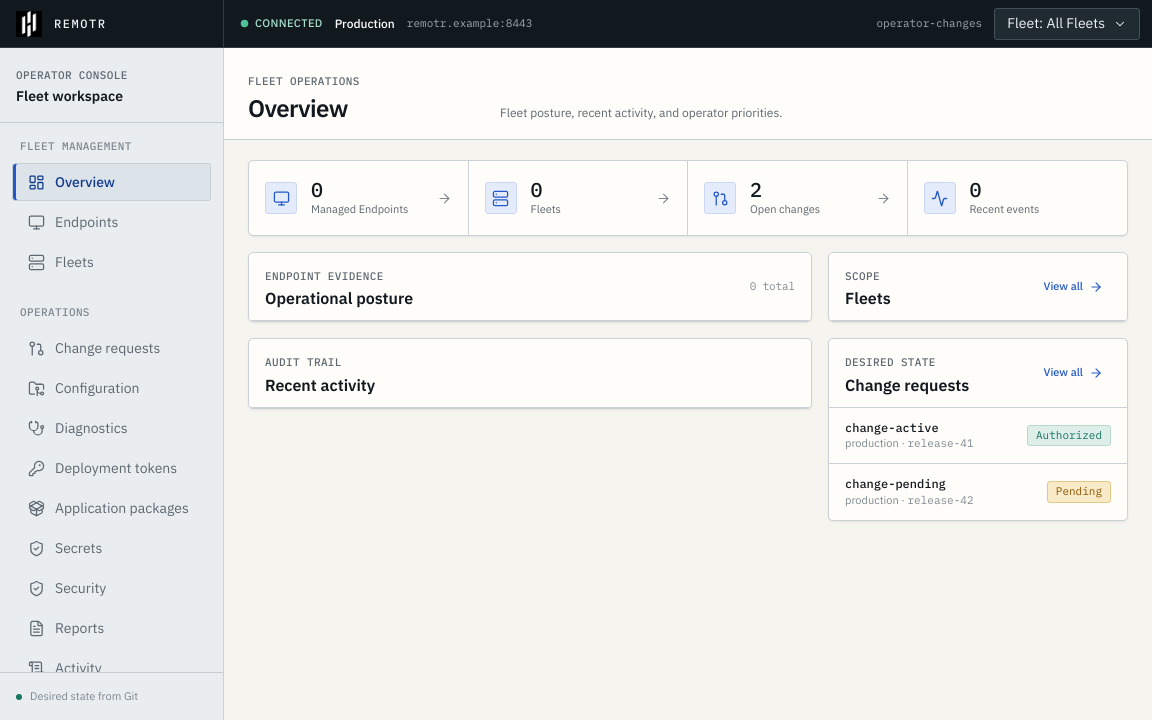
ChangeRequestPage › shows bounded read-only plan through outcome evidence with no mutations
Click the button "Change requests". click: (112, 348)
box: [12,329,211,367]
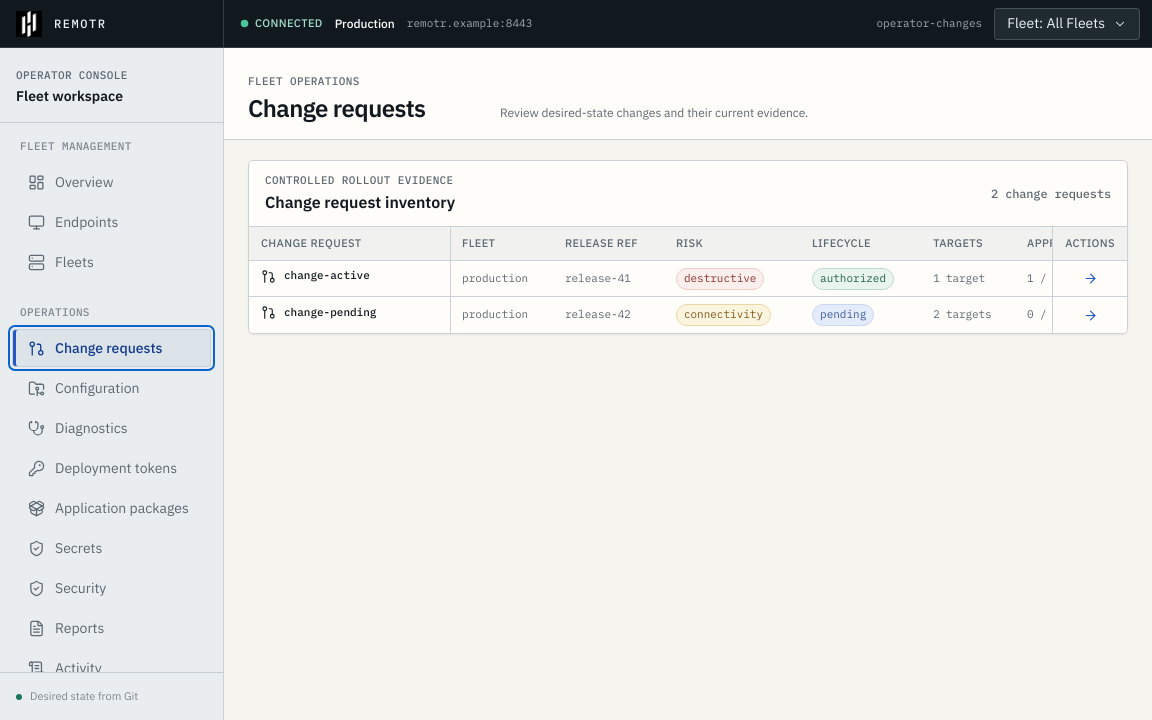
Click the button named "Inspect change-active". click: (1090, 279)
box: [1076,265,1104,293]
(page scrolled)
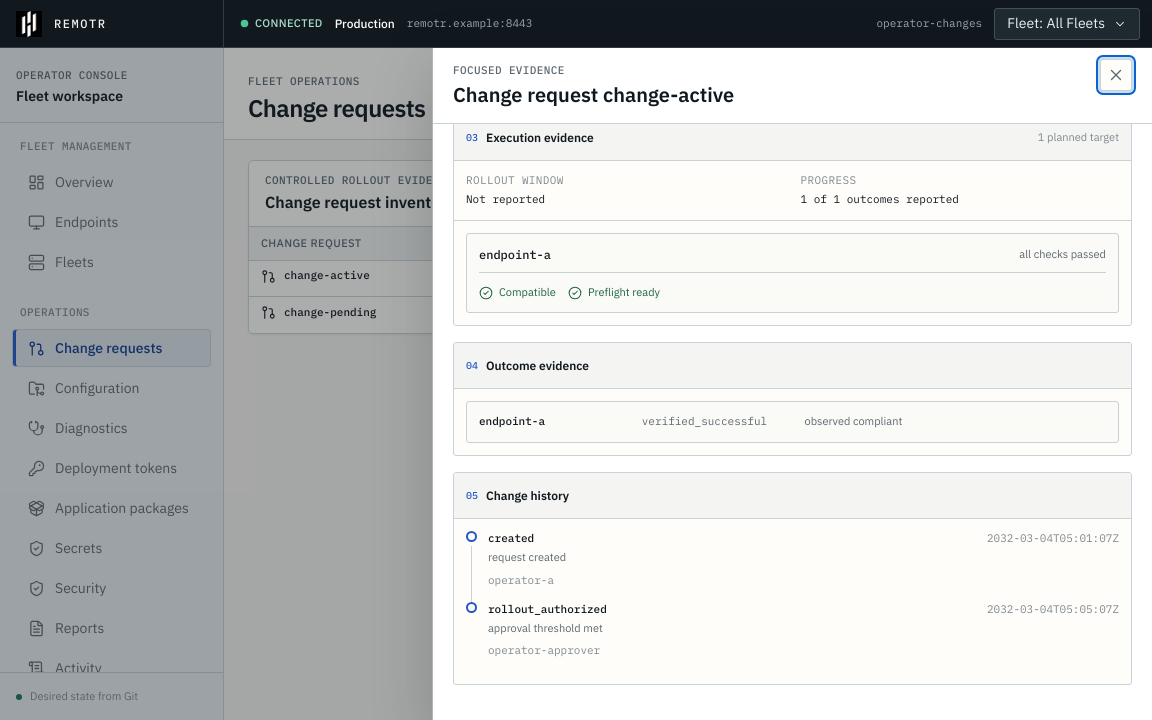
Expected: the text "endpoint-a" in the row of "all checks passed" is shown, [479,247,551,262]
Expected: the text "Compatible" is shown, [479,284,556,300]
Expected: the text "Preflight ready" is shown, [568,284,660,300]
